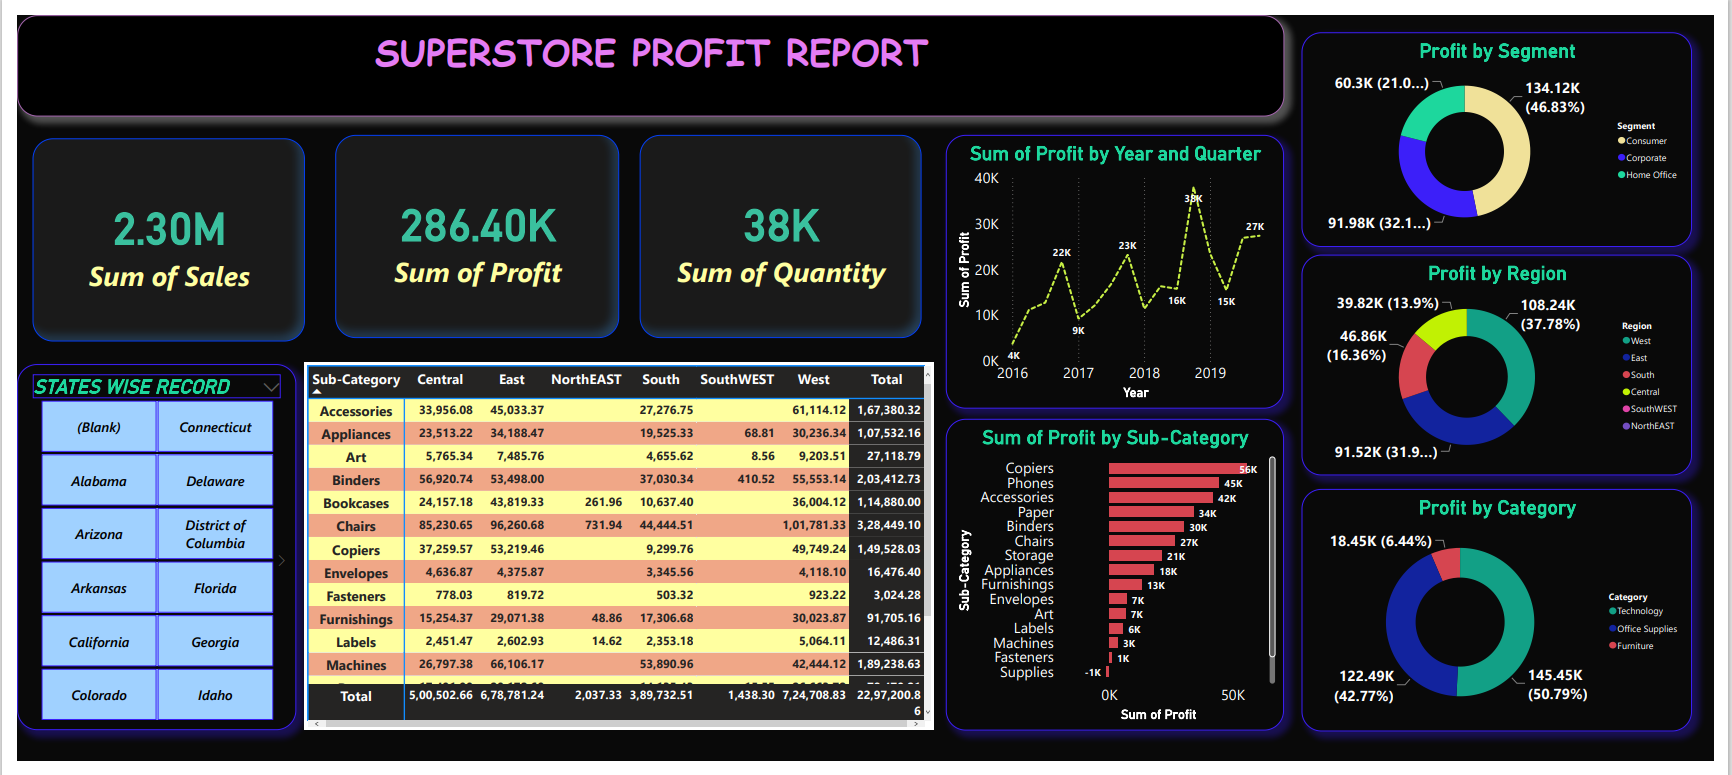

This screenshot's page, from the dashboard's own definition file:
{"tool":"powerbi","page":{"name":"Page 1","canvas":[2500,1100],"ordinal":0},"visuals":[{"type":"textbox","box":[0,0,1867.4,148.7],"z":0},{"type":"donutChart","title":" Profit by Category","fields":{"Y":["Sum(Orders.Profit)"],"Category":["Orders.Category"]},"box":[1891.6,696.9,575.5,357],"z":1000},{"type":"donutChart","title":" Profit by Region","fields":{"Y":["Sum(Orders.Profit)"],"Category":["Orders.Region"]},"box":[1891.6,352.1,575.5,325.4],"z":2000},{"type":"donutChart","title":" Profit by Segment","fields":{"Y":["Sum(Orders.Profit)"],"Category":["Orders.Segment"]},"box":[1891.6,24.3,575.5,315.7],"z":3000},{"type":"barChart","fields":{"Y":["Sum(Orders.Profit)"],"Category":["Orders.Sub-Category"]},"box":[1369.5,594.9,497.8,458.9],"z":4000},{"type":"lineChart","fields":{"Category":["Orders.Order Date.Variation.Date Hierarchy.Year","Orders.Order Date.Variation.Date Hierarchy.Quarter","Orders.Order Date.Variation.Date Hierarchy.Month","Orders.Order Date.Variation.Date Hierarchy.Day"],"Y":["Sum(Orders.Profit)"]},"box":[1369.5,177.3,497.8,403.1],"z":5000},{"type":"slicer","fields":{"Values":["Orders.State"]},"box":[0,514.1,410.8,539.3],"z":6000},{"type":"pivotTable","fields":{"Rows":["Orders.Sub-Category"],"Columns":["Orders.Region"],"Values":["Sum(Orders.Sales)"]},"box":[422.5,512.4,927.6,541.5],"z":7000},{"type":"card","fields":{"Values":["Sum(Orders.Sales)"]},"box":[21.9,182.1,400.7,298.7],"z":8000},{"type":"card","fields":{"Values":["Sum(Orders.Profit)"]},"box":[468.7,177.3,417.7,298.7],"z":9000},{"type":"card","fields":{"Values":["Sum(Orders.Quantity)"]},"box":[917.9,177.3,415.2,298.7],"z":10000}]}

Visuals, with their boxes in screenshot pixels (x1, y1, x2, y2), scaled from the page's 2500x1100 canvas onto the 1732x775 screenshot:
textbox: left=0, top=0, right=1294, bottom=105
" Profit by Category" donutChart: left=1311, top=491, right=1709, bottom=743
" Profit by Region" donutChart: left=1311, top=248, right=1709, bottom=477
" Profit by Segment" donutChart: left=1311, top=17, right=1709, bottom=240
barChart - Sum(Orders.Profit) x Orders.Sub-Category: left=949, top=419, right=1294, bottom=742
lineChart - Orders.Order Date.Variation.Date Hierarchy.Year x Orders.Order Date.Variation.Date Hierarchy.Quarter: left=949, top=125, right=1294, bottom=409
slicer - Orders.State: left=0, top=362, right=285, bottom=742
pivotTable - Orders.Sub-Category x Orders.Region: left=293, top=361, right=935, bottom=743
card - Sum(Orders.Sales): left=15, top=128, right=293, bottom=339
card - Sum(Orders.Profit): left=325, top=125, right=614, bottom=335
card - Sum(Orders.Quantity): left=636, top=125, right=924, bottom=335
